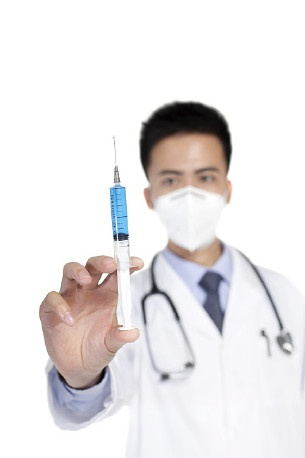Mask: (139, 164, 224, 250)
